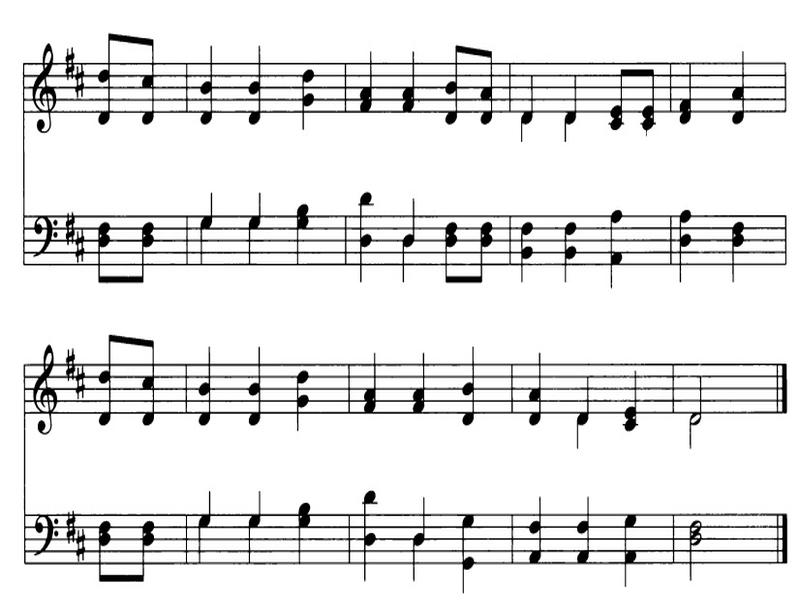B: (683, 517, 707, 586), (686, 370, 709, 424), (686, 413, 703, 448)
C: (87, 21, 117, 126), (469, 212, 502, 291), (441, 33, 468, 127), (131, 207, 163, 286), (133, 33, 158, 126), (98, 331, 121, 429), (476, 42, 500, 132), (93, 214, 120, 291), (127, 520, 158, 587), (139, 330, 159, 433), (442, 215, 462, 292), (608, 63, 630, 132), (97, 517, 117, 592), (638, 62, 658, 131)
CF: (30, 511, 63, 558), (31, 214, 57, 262)
CS: (22, 34, 63, 142), (30, 340, 64, 445)
N: (351, 484, 386, 584), (238, 29, 273, 127), (245, 337, 277, 435), (521, 216, 547, 334), (197, 339, 227, 440), (291, 188, 327, 272), (457, 334, 488, 431), (356, 26, 386, 120), (456, 498, 484, 590), (193, 35, 220, 130), (617, 505, 647, 588), (290, 66, 324, 137), (520, 489, 546, 574), (410, 474, 439, 549), (291, 354, 317, 435), (726, 211, 749, 299), (394, 191, 430, 247), (575, 358, 604, 427), (572, 494, 597, 573), (395, 39, 422, 111), (677, 40, 697, 136), (289, 494, 314, 569), (606, 209, 628, 288), (531, 350, 551, 425), (521, 62, 545, 124), (247, 171, 272, 229), (412, 347, 432, 417), (674, 202, 691, 284), (244, 211, 263, 284), (363, 346, 381, 418), (558, 216, 575, 292), (192, 185, 220, 230), (357, 232, 377, 295), (562, 246, 582, 306), (247, 514, 267, 574), (562, 63, 580, 128), (734, 52, 750, 125), (625, 362, 641, 434), (516, 244, 541, 288), (397, 232, 416, 288), (196, 217, 216, 268), (407, 535, 429, 581), (197, 487, 221, 526), (356, 173, 374, 224), (193, 514, 209, 568), (243, 487, 265, 526), (575, 408, 597, 444), (519, 110, 538, 144), (562, 113, 581, 145), (676, 233, 689, 277), (607, 204, 621, 238), (520, 218, 535, 243), (612, 256, 624, 286), (562, 216, 576, 240), (678, 208, 694, 223)
SOS: (73, 63, 95, 113), (74, 363, 92, 408), (73, 530, 90, 574), (62, 205, 77, 242), (63, 504, 77, 543), (62, 345, 78, 378), (75, 228, 87, 266), (65, 44, 75, 75)
